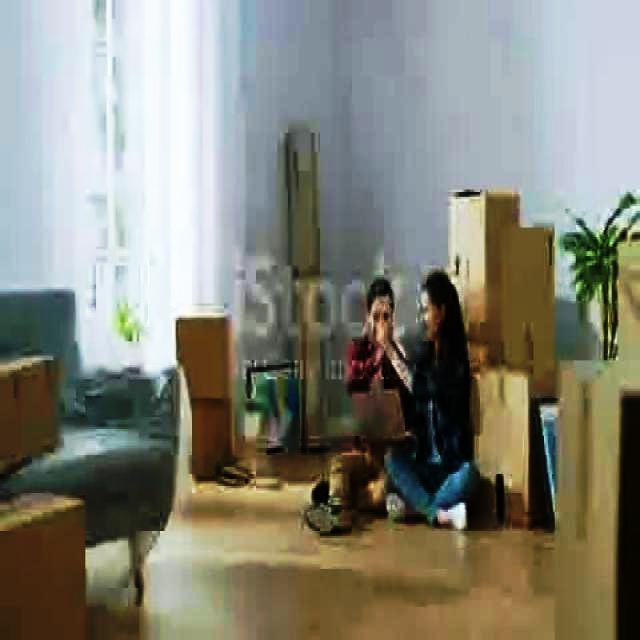Box: (461, 194, 528, 348), (184, 393, 238, 479), (176, 316, 230, 386)
